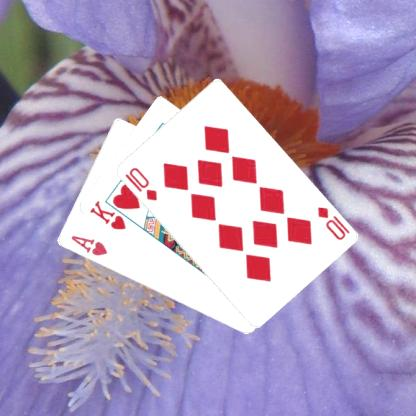10D: (314, 204, 351, 242), (122, 164, 158, 202)
AH: (68, 233, 108, 258)
KH: (86, 198, 127, 232)
